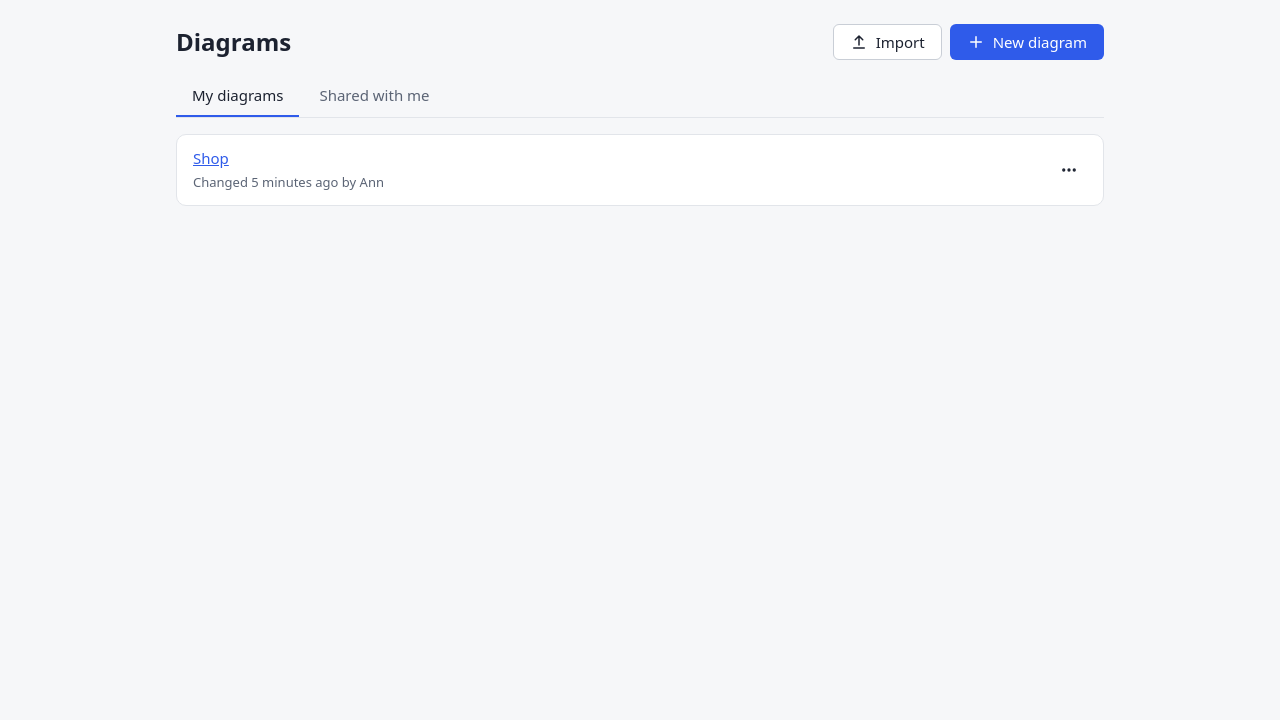
Test: DiagramListPage › moves a diagram to the trash after a confirm
The width and height of the screenshot is (1280, 720).
What coordinates should you click on to do the following:
click the button named "Actions for Shop"
I would click on:
 (1069, 170)
Its box is left=1051, top=152, right=1087, bottom=188.
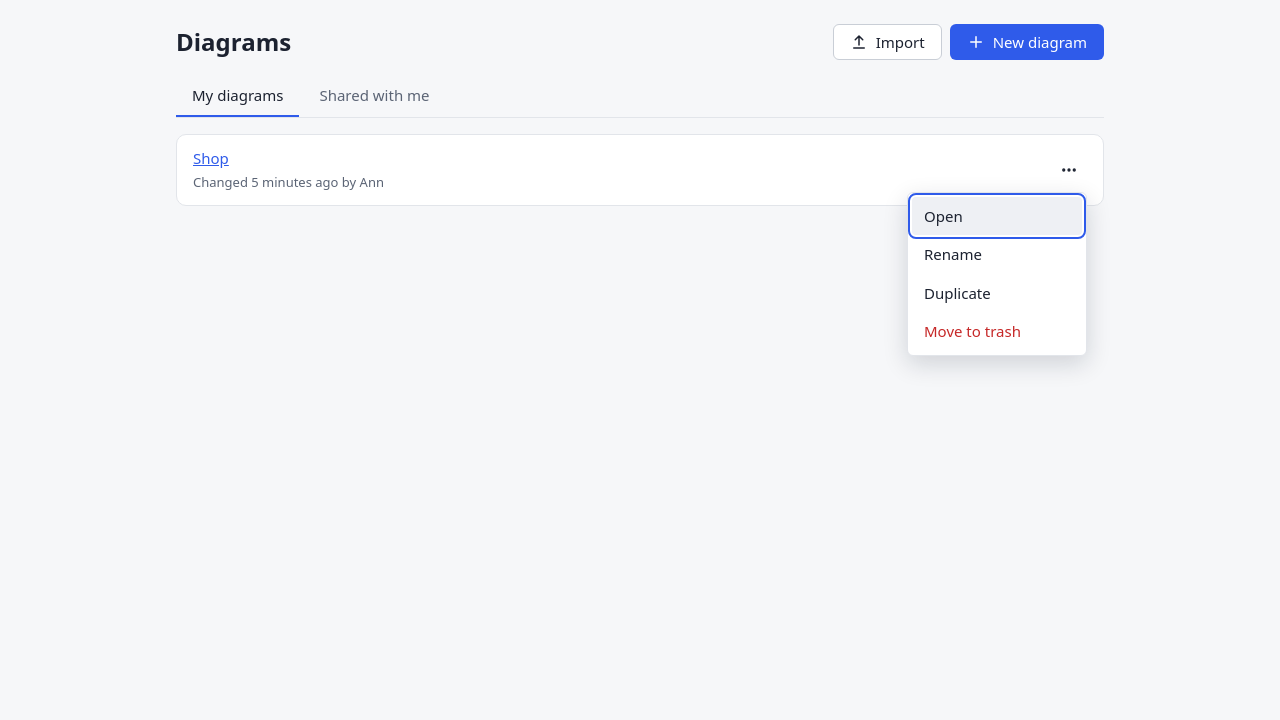
What coordinates should you click on to do the following:
click the menu item "Move to trash"
I would click on:
 (997, 331)
Its box is left=912, top=312, right=1082, bottom=350.
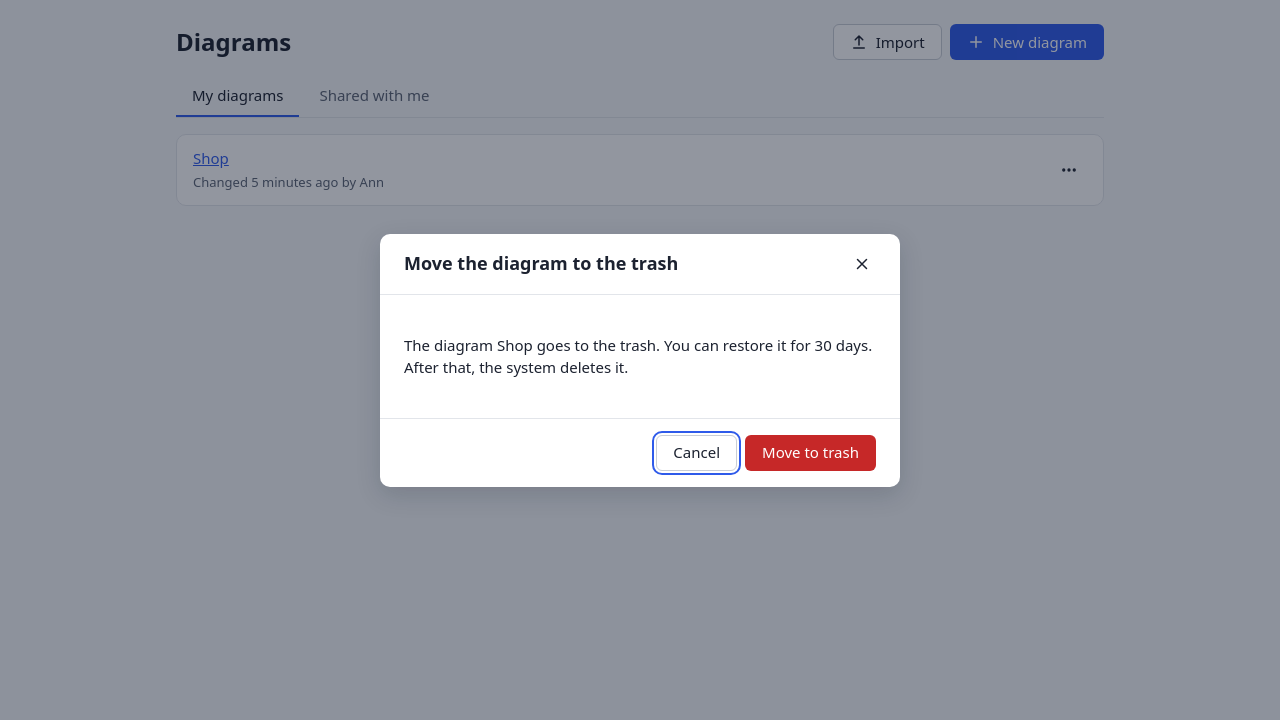
Expected: the dialog shows "30 days", left=404, top=334, right=872, bottom=377
What coordinates should you click on to do the following:
click the button "Move to trash"
I would click on:
 (811, 452)
Its box is left=745, top=434, right=876, bottom=470.
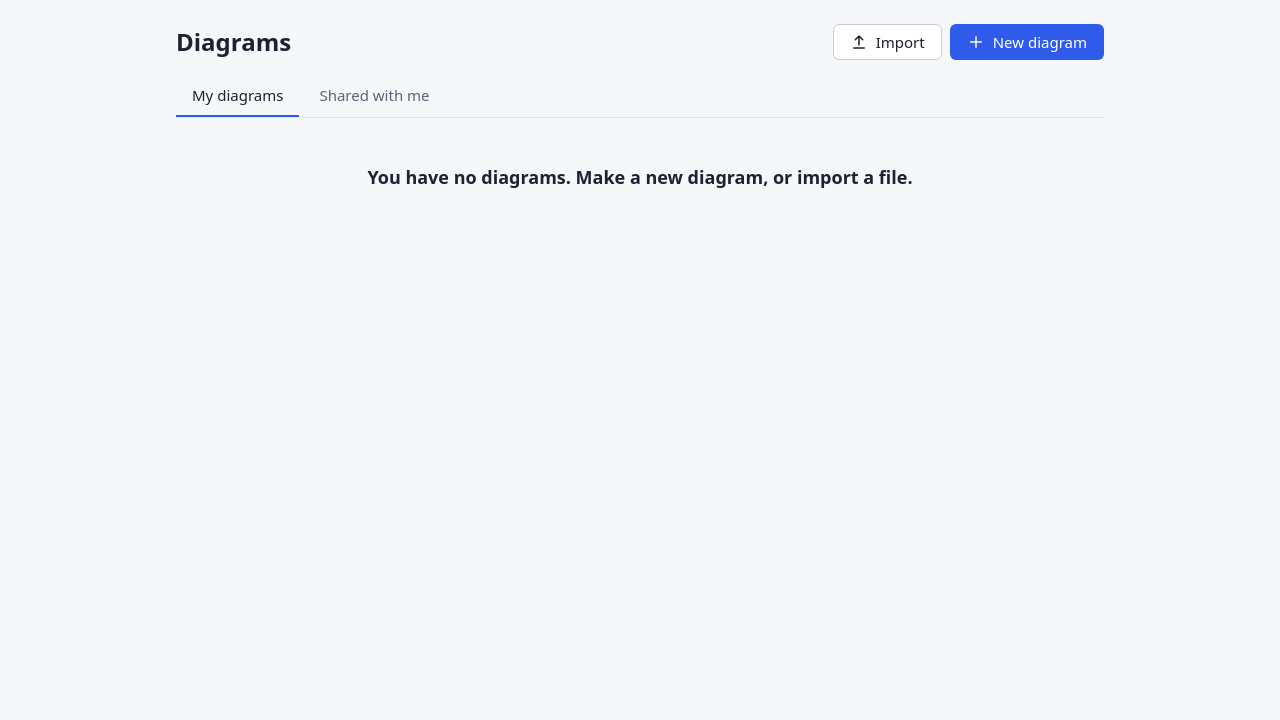
Expected: the heading "You have no diagrams. Make a new diagram, or import a file." is shown, left=367, top=166, right=913, bottom=188
